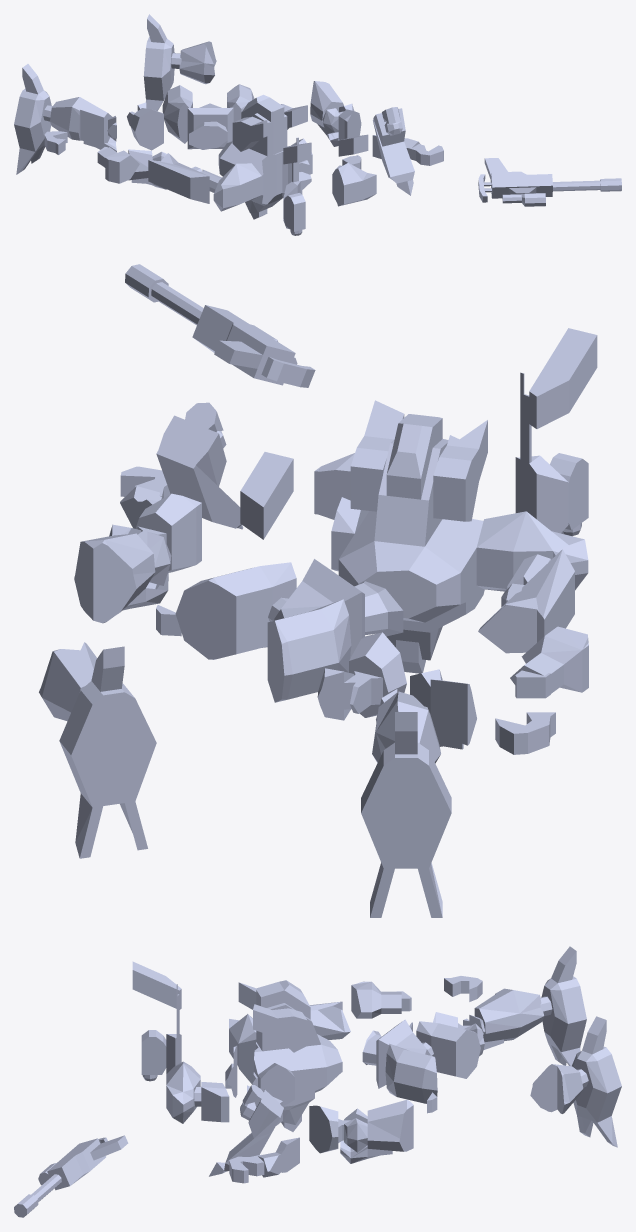
File: sharpshootercorpse.dae
3 renders of one model, top to bottom at view 1: azimuth 30°, elevation 25°; view 2: azimuth 150°, elevation 25°; view 3: azimuth 270°, elevation 25°, orthographic. The views are drawn at different scales.
Parts seen in each view (by area): view 1: Actor0; view 2: Actor0; view 3: Actor0.
Boxes of the visible parts, <box> form: Actor0: <box>14,14,621,235</box>; Actor0: <box>39,264,597,917</box>; Actor0: <box>14,946,621,1217</box>.
Bounding box in the file's own units: 9.14 × 3.01 × 10.2.
